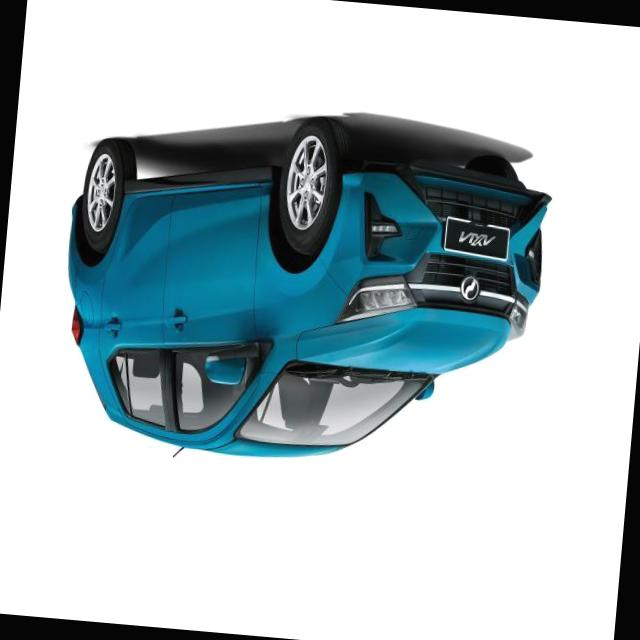PeroduaAxia: (49, 96, 557, 490)
